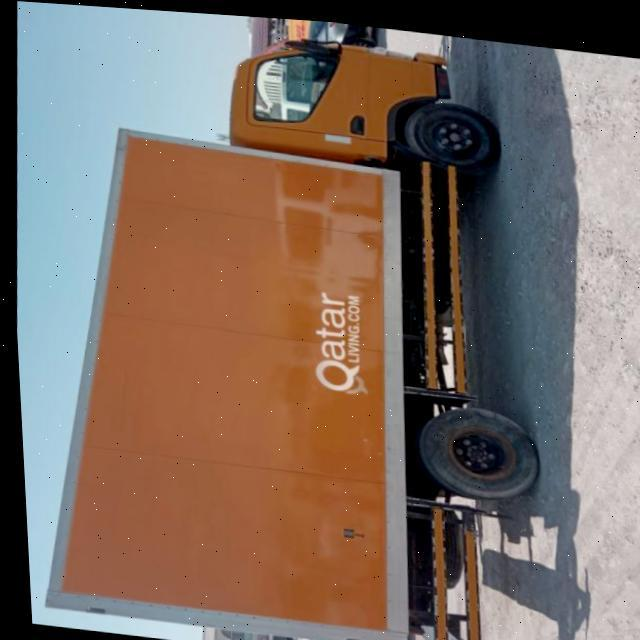truck: (9, 4, 564, 640)
